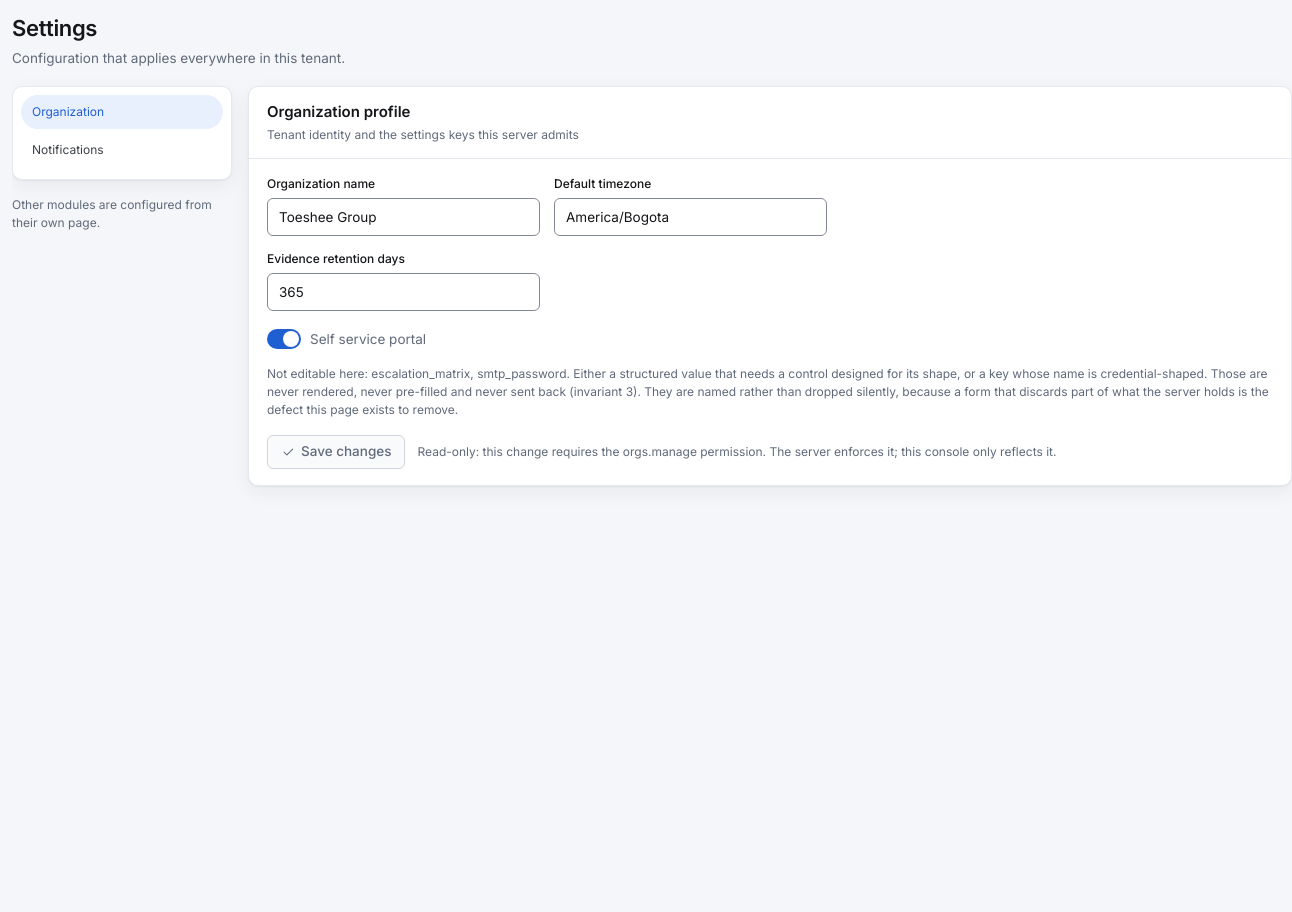
Test: Settings — Notifications tab › disables every write, with the reason, for a reader who lacks notification.admin
Click the tab "Notifications" at (122, 150), box [21,133,223,167]
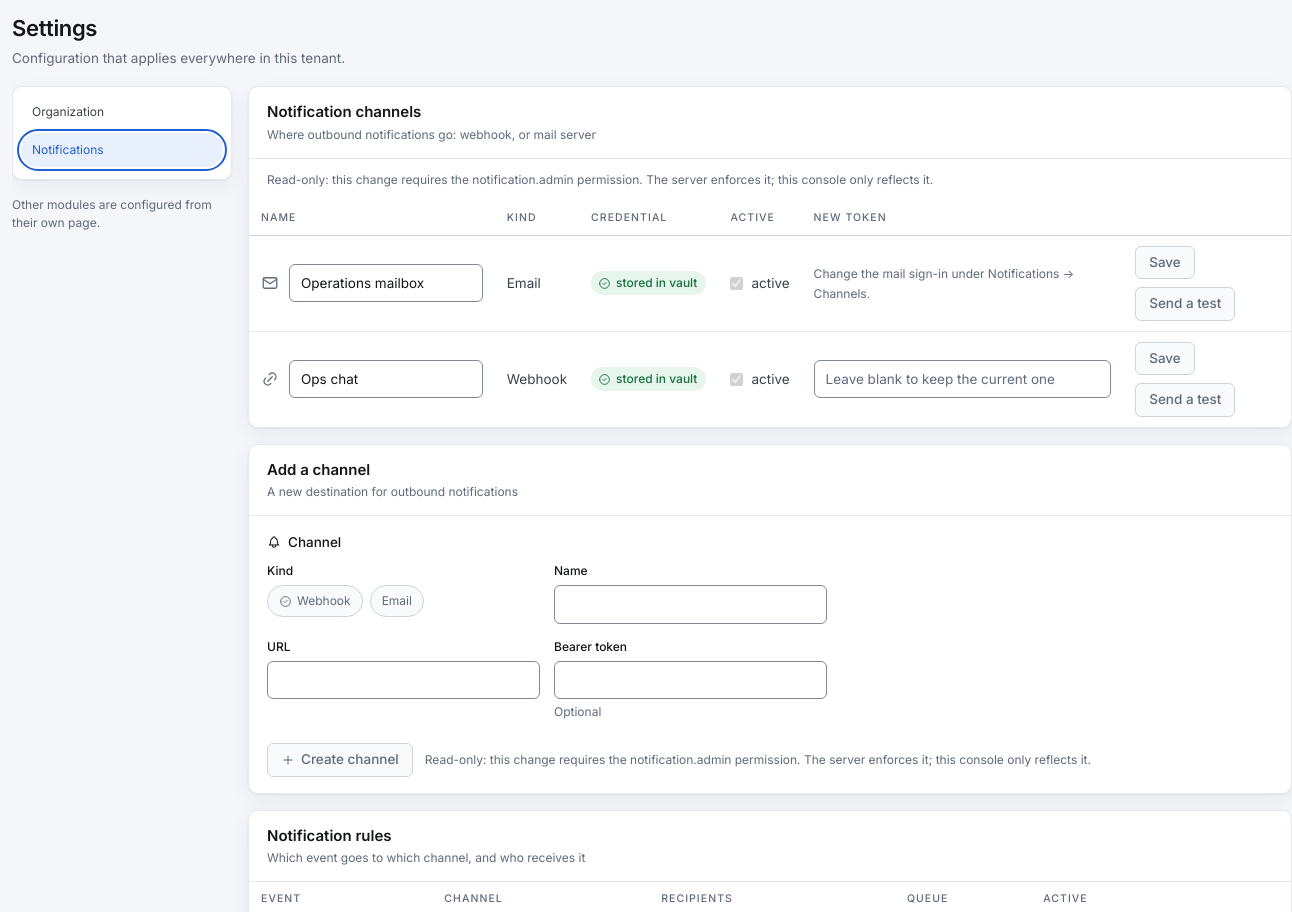
Expected: the checkbox named "Active for Operations mailbox" is disabled, [730,276,743,290]
Expected: the button "Webhook" is disabled, [267,585,363,617]
Expected: the button "Email" is disabled, [370,585,424,617]
